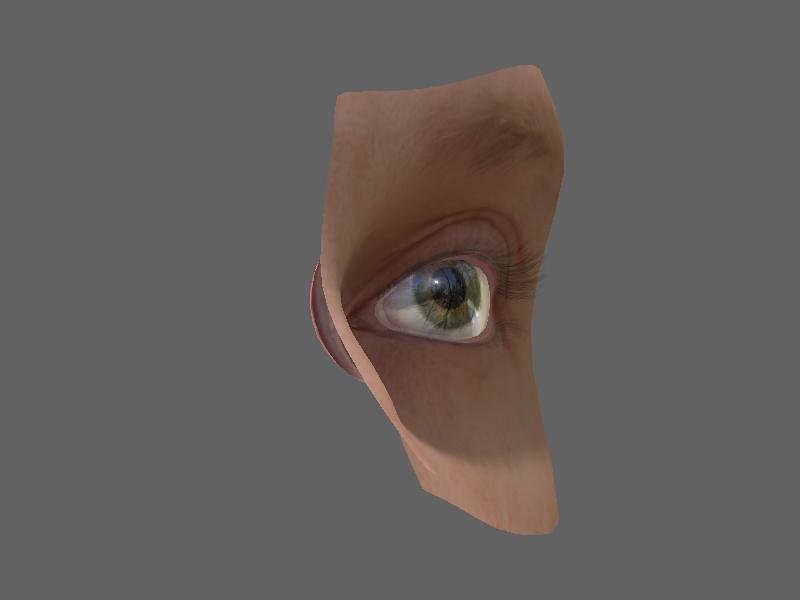iris: (410, 260, 490, 329)
